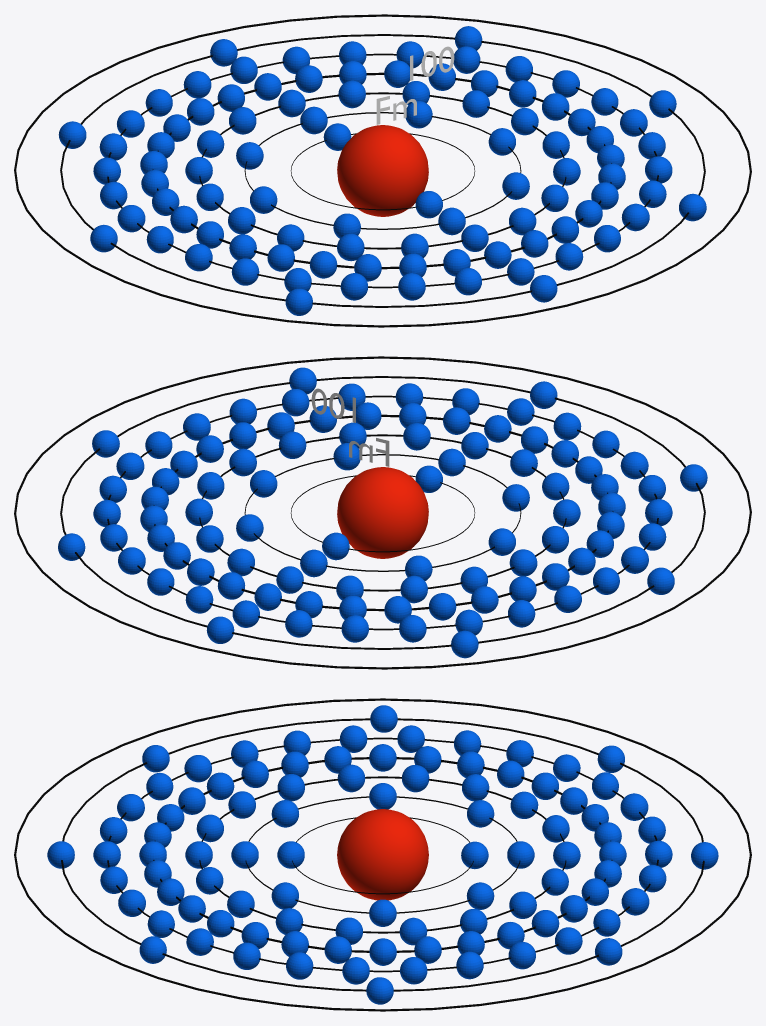
3 renders of one model, top to bottom at view 1: azimuth 30°, elevation 25°; view 2: azimuth 150°, elevation 25°; view 3: azimuth 270°, elevation 25°, orthographic.
Visible parts, largest first — view 1: Fm4, Fm5, Fm3, Proton, Fm6, n7, Fm2, n6, n5, Fm1, n3, n4 (+2 smaller); view 2: Fm4, Fm5, Fm3, Proton, Fm6, n7, Fm2, n6, n5, Fm1, n3, n4 (+2 smaller); view 3: Fm4, Fm5, Fm3, Proton, Fm2, Fm6, n7, n6, n5, Fm1, n3, n4 (+2 smaller).
Boxes of the visible parts, x1,y1,x2,y2 form: Fm4: [140, 60, 625, 281]; Fm5: [93, 41, 672, 300]; Fm3: [185, 80, 580, 261]; Proton: [337, 125, 428, 216]; Fm6: [58, 26, 706, 315]; n7: [14, 14, 751, 327]; Fm2: [236, 101, 529, 238]; n6: [60, 34, 705, 307]; n5: [107, 53, 658, 288]; Fm1: [323, 123, 442, 218]; n3: [199, 92, 566, 249]; n4: [152, 72, 611, 269]; Fm4: [140, 402, 625, 623]; Fm5: [93, 383, 672, 642]; Fm3: [185, 422, 580, 603]; Proton: [337, 467, 428, 558]; Fm6: [58, 367, 707, 658]; n7: [14, 356, 751, 669]; Fm2: [236, 443, 529, 580]; n6: [60, 376, 705, 649]; n5: [107, 395, 658, 630]; Fm1: [322, 465, 442, 560]; n3: [199, 434, 566, 591]; n4: [153, 414, 613, 611]; Fm4: [139, 744, 626, 965]; Fm5: [93, 725, 672, 984]; Fm3: [185, 764, 580, 945]; Proton: [337, 809, 428, 900]; Fm2: [231, 783, 534, 926]; Fm6: [47, 705, 718, 1004]; n7: [14, 698, 751, 1011]; n6: [61, 718, 704, 991]; n5: [107, 737, 658, 972]; Fm1: [277, 841, 488, 869]; n3: [199, 776, 566, 933]; n4: [153, 757, 612, 952].
Bounding box in the file's own units: 802 × 180 × 802.
